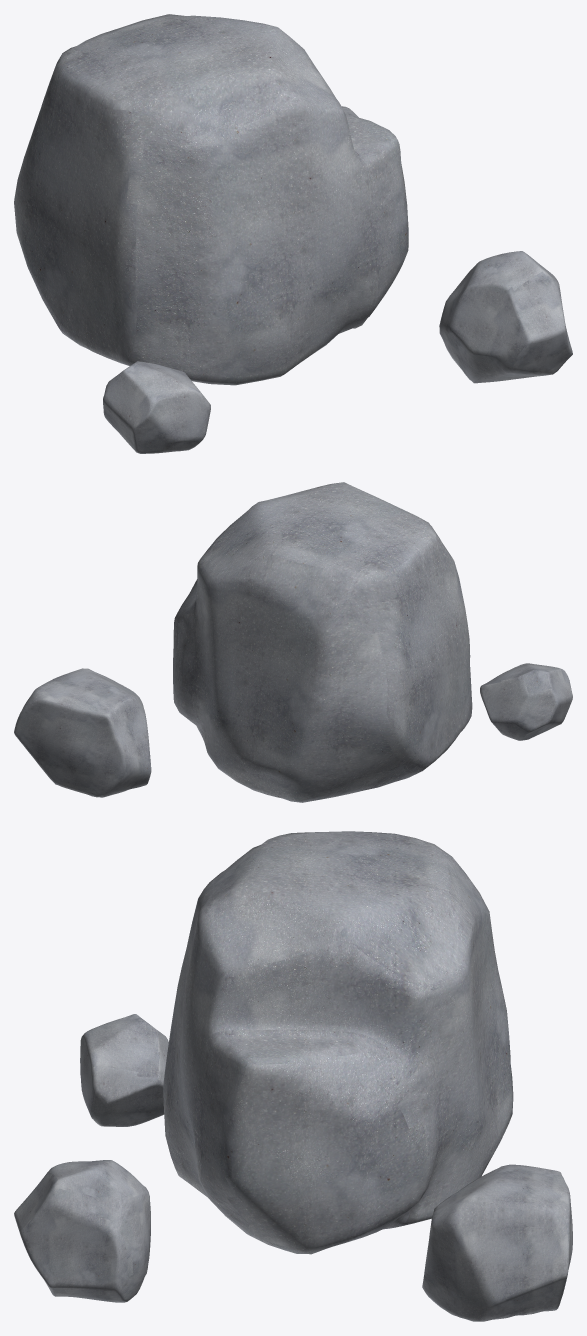
The model's file is Stones Test .fbx.
The picture shows the model from 3 angles, top to bottom: view 1: azimuth 30°, elevation 25°; view 2: azimuth 150°, elevation 25°; view 3: azimuth 270°, elevation 25°; orthographic projection. The views are drawn at different scales.
Parts seen in each view (by area): view 1: Stone 2, Stone, Stone 1; view 2: Stone 2, Stone 3, Stone 1; view 3: Stone 2, Stone 3, Stone, Stone 1.
Part boxes in pixels (x1,y1,x2,y2): Stone 2: (14,14,408,385); Stone: (439,251,572,383); Stone 1: (103,361,210,453); Stone 2: (173,482,472,802); Stone 3: (14,668,151,797); Stone 1: (480,663,572,740); Stone 2: (163,831,513,1254); Stone 3: (422,1164,572,1321); Stone: (14,1160,150,1302); Stone 1: (80,1014,168,1126).
Bounding box in the file's own units: 371 × 241 × 367.
